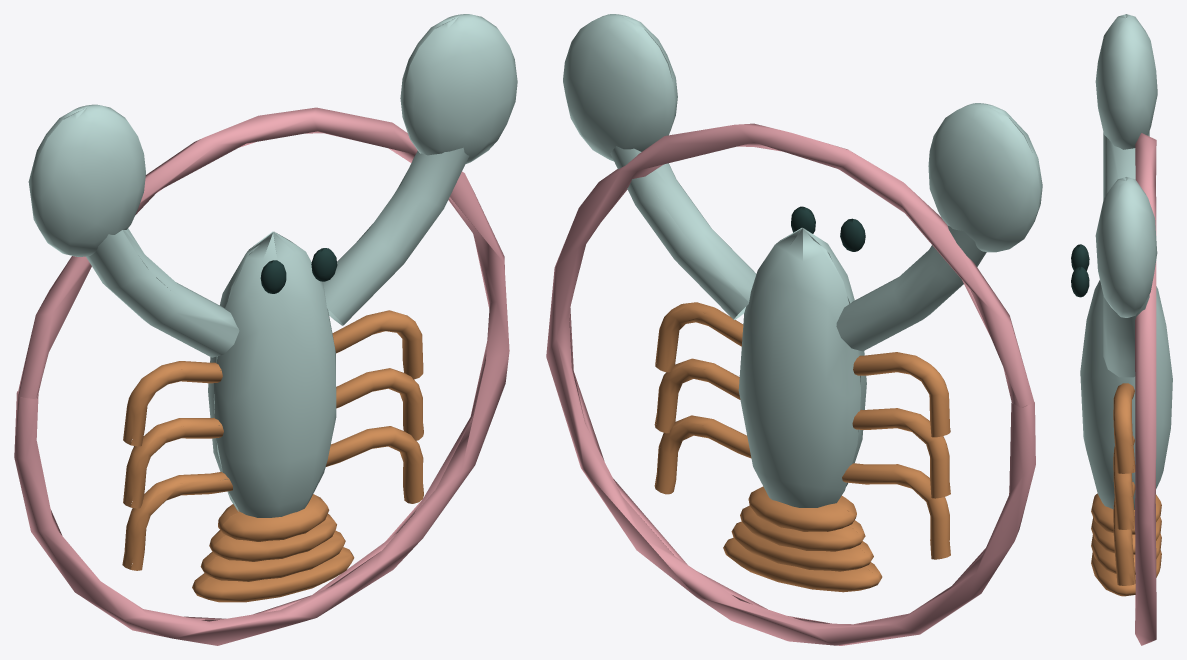
3 views of the same model, side by side, from view 1: azimuth 30°, elevation 25°; view 2: azimuth 150°, elevation 25°; view 3: azimuth 270°, elevation 25° (orthographic). The views are drawn at different scales.
Visible parts, largest first — view 1: Neon halo, Lobster leg, Chrome lobster, Arm.001, Arm, Eye; view 2: Neon halo, Lobster leg, Chrome lobster, Arm.001, Arm, Eye; view 3: Neon halo, Arm.001, Chrome lobster, Arm, Lobster leg, Eye.
Part boxes in pixels (x1,y1,x2,y2): Neon halo: (14, 107, 509, 645); Lobster leg: (122, 310, 423, 602); Chrome lobster: (208, 231, 336, 517); Arm.001: (322, 14, 517, 325); Arm: (28, 104, 239, 357); Eye: (260, 248, 337, 293); Neon halo: (546, 123, 1035, 645); Lobster leg: (654, 302, 950, 592); Chrome lobster: (738, 227, 866, 507); Arm.001: (563, 14, 756, 319); Arm: (836, 103, 1042, 351); Eye: (791, 206, 865, 251); Neon halo: (1135, 133, 1156, 645); Arm.001: (1095, 177, 1157, 377); Chrome lobster: (1080, 280, 1172, 509); Arm: (1095, 14, 1157, 199); Lobster leg: (1091, 383, 1161, 596); Eye: (1071, 244, 1089, 297).
Size of the model in its own units: 0.6669 by 0.7486 by 0.1323.
